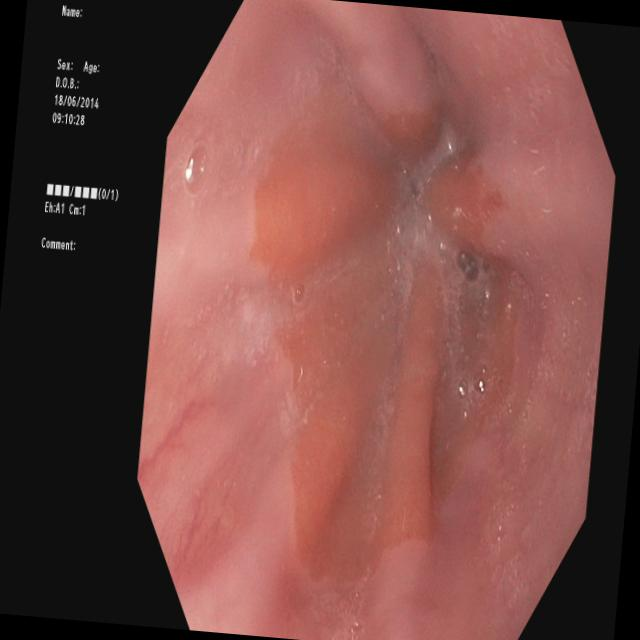Normal-Z-Line: (249, 82, 528, 600)
